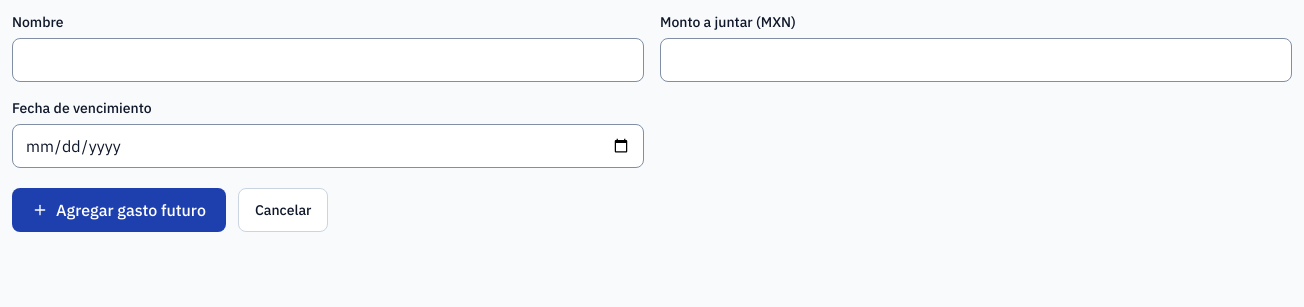
it: ItemForm › shows the backend message when the server rejects it
This screenshot has width=1304, height=307.
In the field labelled "Nombre": x=328, y=60 top-left (12, 38), bottom-right (644, 82), type "x"
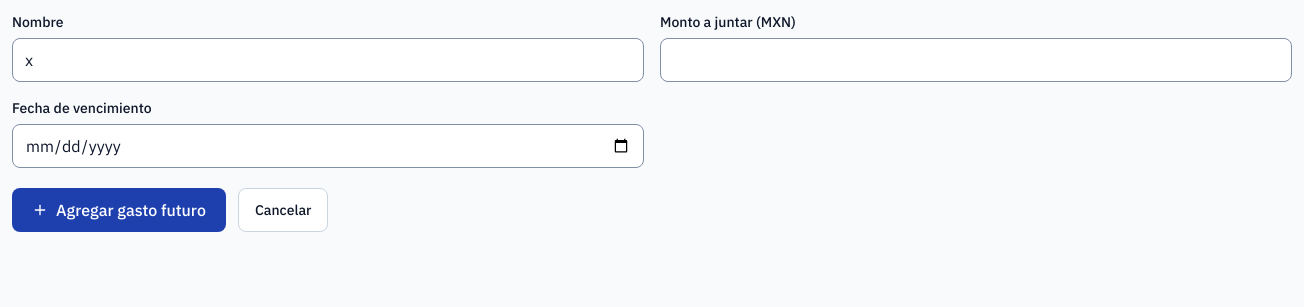
In the field labelled "Monto a juntar (MXN)": x=976, y=60 top-left (660, 38), bottom-right (1292, 82), type "1"
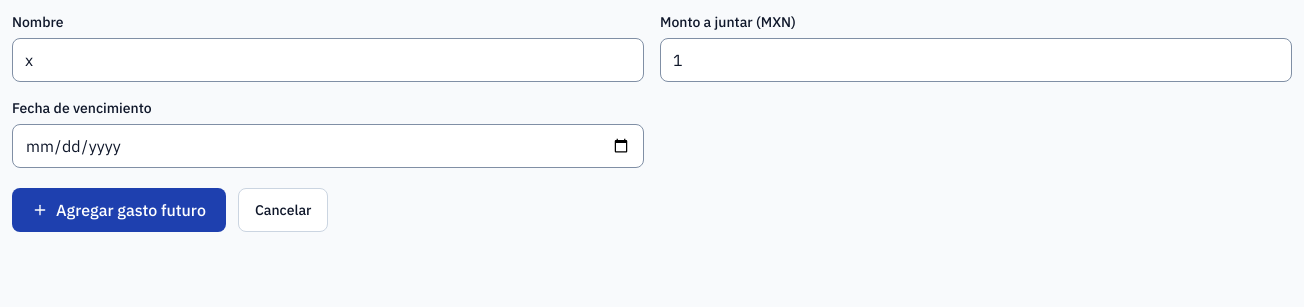
In the date field labelled "Fecha de vencimiento": x=328, y=146 top-left (12, 124), bottom-right (644, 168), type "2027-01-20"
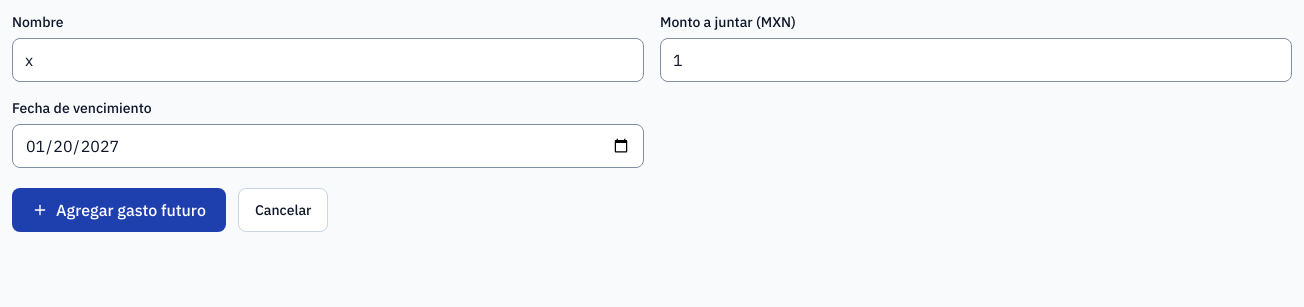
Click the button "Agregar gasto futuro": x=119, y=210 top-left (12, 188), bottom-right (226, 232)
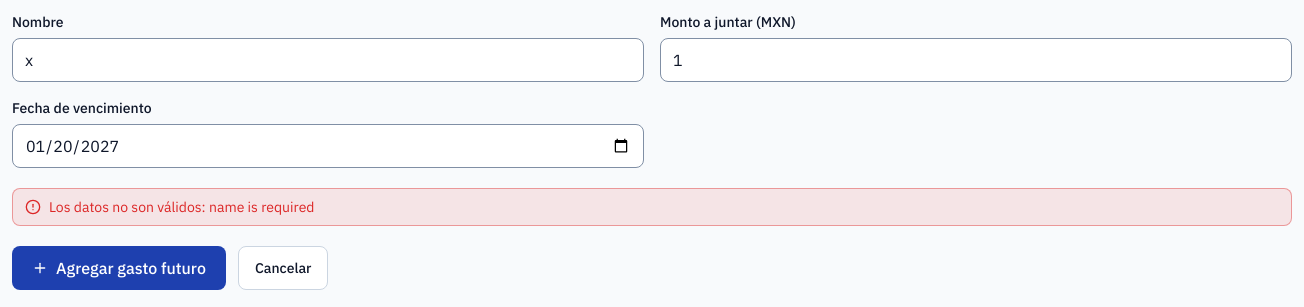
Expected: the text "Los datos no son válidos: name is required" is shown, top-left (49, 197), bottom-right (314, 217)
